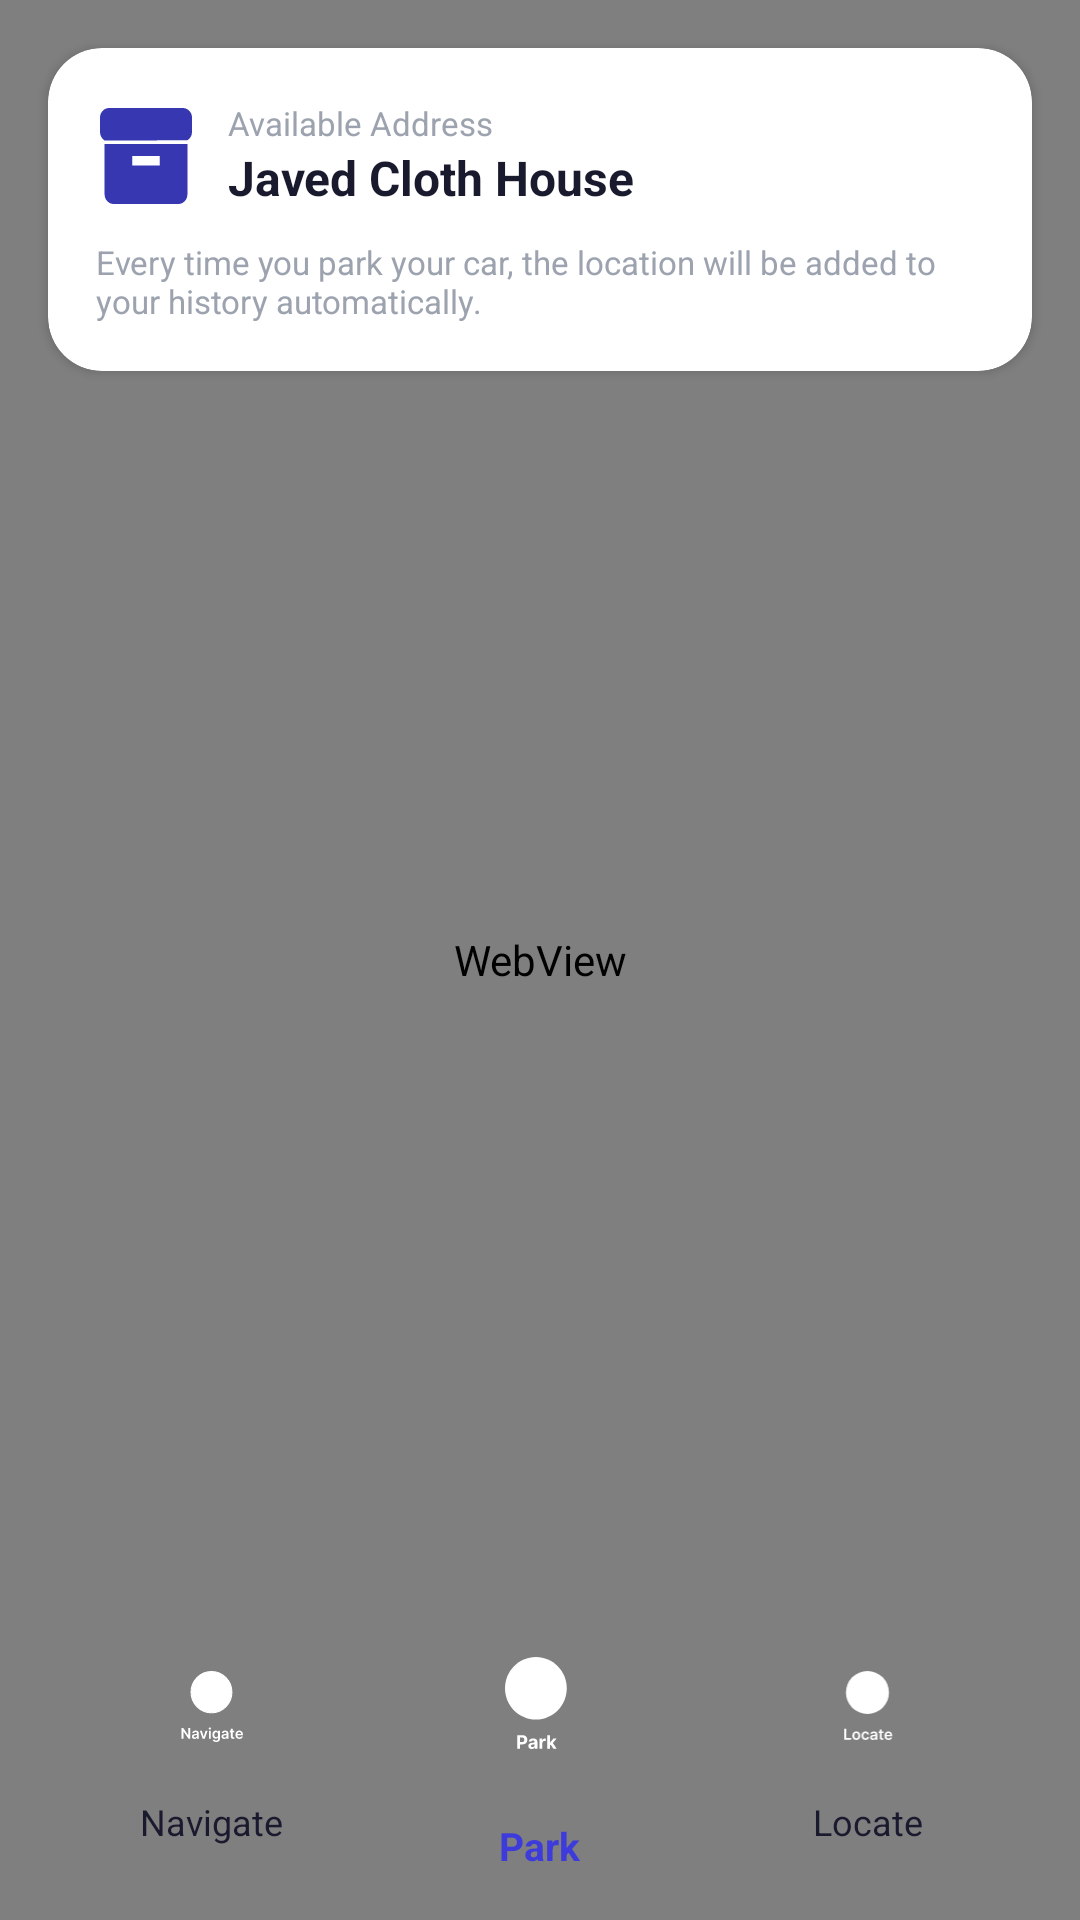

Screen size 1080px×1920px. Icon name, then its center in pixels as (x=x, y=y):
Parking History: (x=146, y=156)
